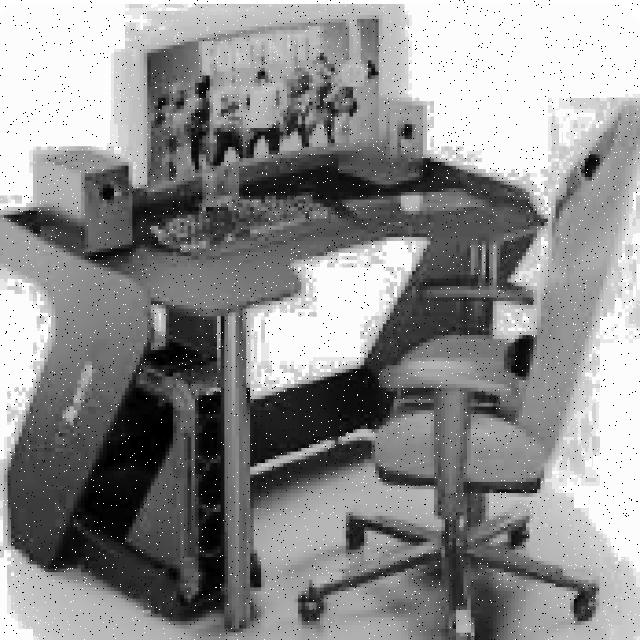book: (294, 98, 640, 640)
table: (0, 143, 548, 629)
